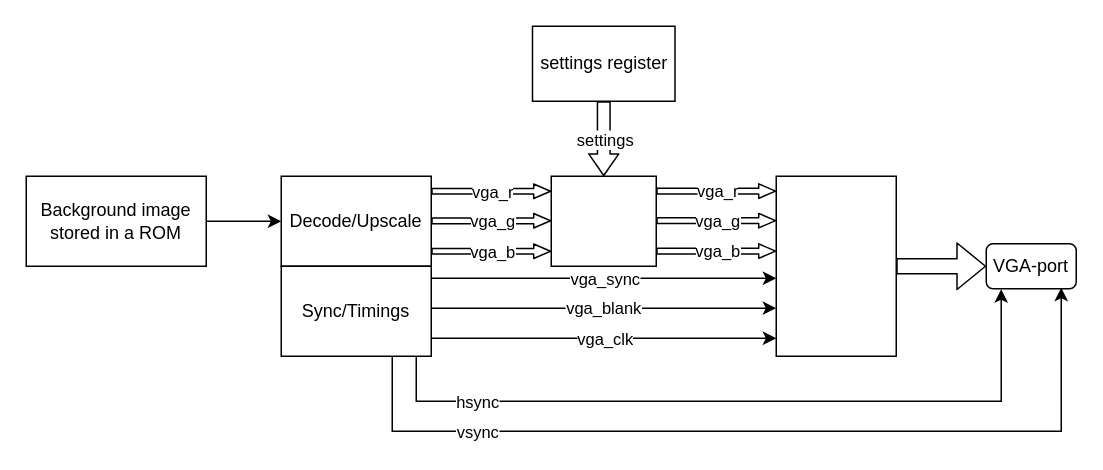
The diagram is 1103 pixels wide and 470 high, and some of its shapes have lost their labels. The box of each missing label's shape, as (x1, y1, x2, y2) in pixels:
ADV7123: (775, 175, 896, 356)
Value Overlay Mask: (550, 175, 656, 266)
